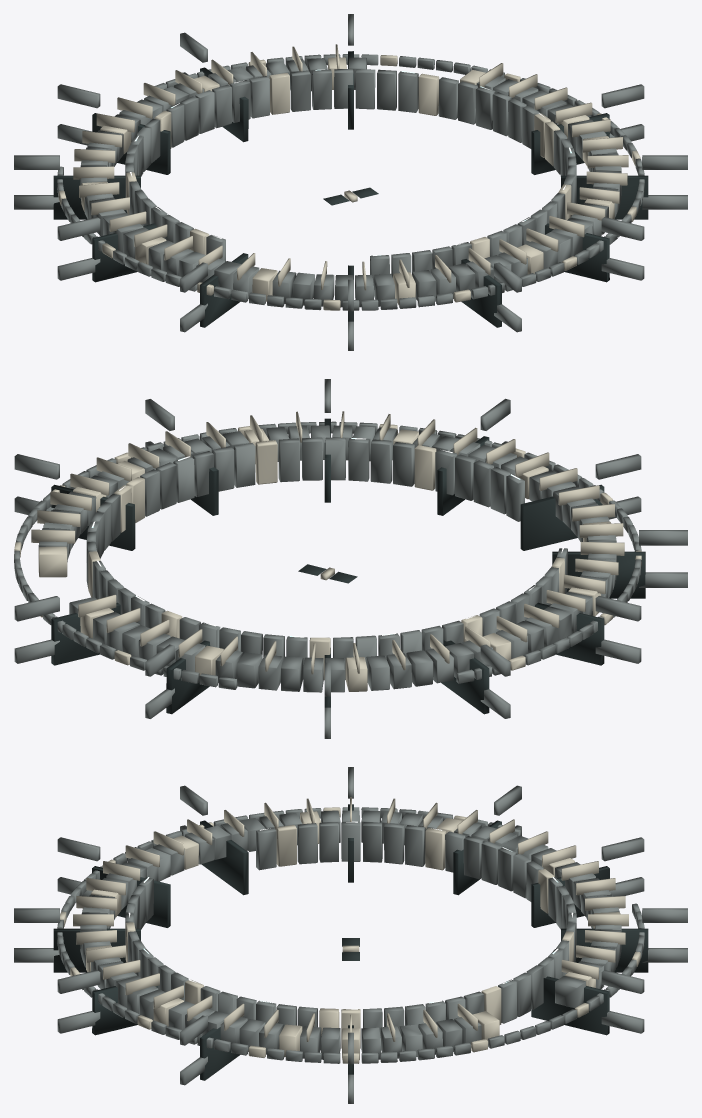
The model's file is cathedral-low.glb.
The picture shows the model from 3 angles, top to bottom: view 1: azimuth 30°, elevation 25°; view 2: azimuth 150°, elevation 25°; view 3: azimuth 270°, elevation 25°; orthographic projection. The views are drawn at different scales.
Parts seen in each view (by area): view 1: weathered_titanium, ceramic_ribs, recessed_graphite; view 2: weathered_titanium, ceramic_ribs, recessed_graphite; view 3: weathered_titanium, ceramic_ribs, recessed_graphite.
Part boxes in pixels (left/top/right/bottom): weathered_titanium: left=14, top=14, right=687, bottom=350; ceramic_ribs: left=58, top=44, right=640, bottom=310; recessed_graphite: left=53, top=51, right=648, bottom=327; weathered_titanium: left=14, top=379, right=687, bottom=738; ceramic_ribs: left=14, top=411, right=641, bottom=691; recessed_graphite: left=51, top=418, right=645, bottom=714; weathered_titanium: left=14, top=767, right=687, bottom=1103; ceramic_ribs: left=60, top=797, right=640, bottom=1063; recessed_graphite: left=53, top=804, right=648, bottom=1080.
Size of the model in its own units: 2.62 by 0.2662 by 2.62.
